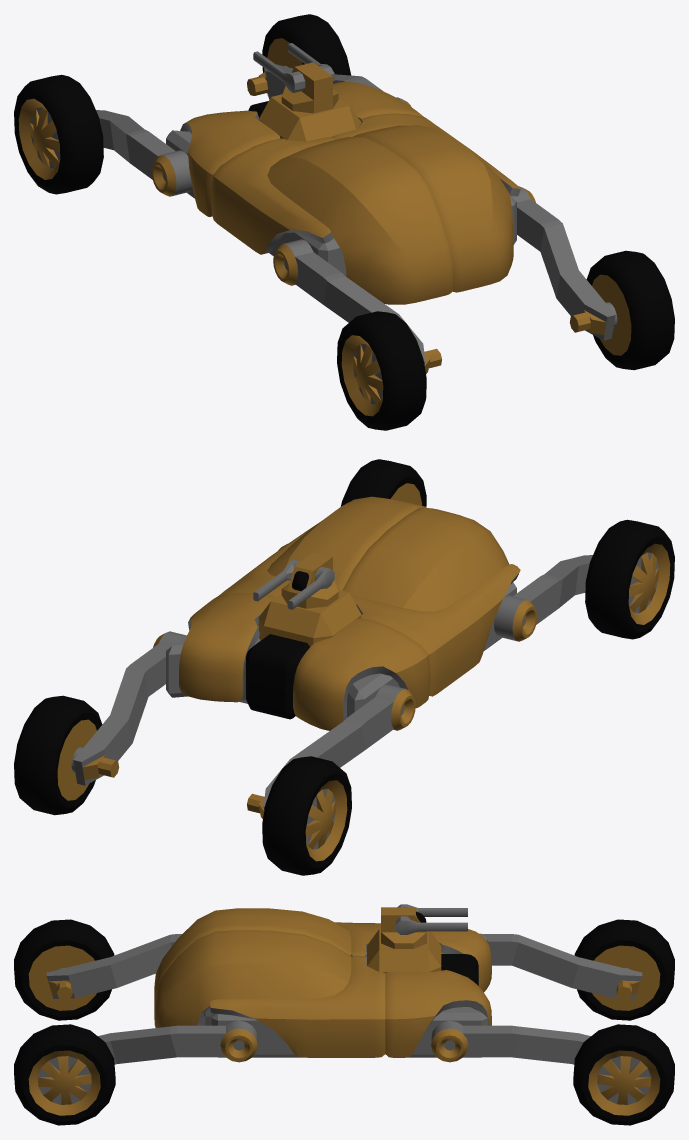
Rendered from PlayerVehicle.fbx.
The picture shows the model from 3 angles, top to bottom: view 1: azimuth 30°, elevation 25°; view 2: azimuth 150°, elevation 25°; view 3: azimuth 270°, elevation 25°; orthographic projection. The views are drawn at different scales.
Parts seen in each view (by area): view 1: Back Panel, Vehicle Right Side|Back Panel|Dupli|6, Vehicle Back Left Arm|Cylinder.001|Dupli|1, Cylinder.001, Side Panel, Vehicle Right Side|Cylinder.001|Dupli|1.7, Vehicle Right Side|Cylinder|Dupli|0.7, Vehicle Back Left Arm|Cylinder|Dupli|, Front Panel, Cylinder, Vehicle Right Side|Cylinder.001|Dupli|9, Turret Mount (+6 smaller); view 2: Back Panel, Front Panel, Cylinder.001, Vehicle Back Left Arm|Cylinder.001|Dupli|1, Side Panel, Vehicle Right Side|Cylinder.001|Dupli|9, Vehicle Right Side|Front Panel|Dupli|4, Vehicle Right Side|Cylinder|Dupli|8, Vehicle Right Side|Back Panel|Dupli|6, Cylinder, Vehicle Back Left Arm|Cylinder|Dupli|, Front (+7 smaller); view 3: Vehicle Right Side|Back Panel|Dupli|6, Vehicle Right Side|Side Panel|Dupli|5, Vehicle Right Side|Cylinder.001|Dupli|1.7, Vehicle Right Side|Cylinder.001|Dupli|9, Cylinder.001, Vehicle Back Left Arm|Cylinder.001|Dupli|1, Vehicle Right Side|Front Panel|Dupli|4, Vehicle Right Side|Cylinder|Dupli|0.7, Vehicle Right Side|Cylinder|Dupli|8, Cylinder, Back Panel, Vehicle Back Left Arm|Cylinder|Dupli| (+8 smaller).
Part boxes in pixels (box(x1,y1,x2,y2)): Back Panel: box(267, 136, 452, 304); Vehicle Right Side|Back Panel|Dupli|6: box(353, 125, 513, 292); Vehicle Back Left Arm|Cylinder.001|Dupli|1: box(337, 311, 426, 430); Cylinder.001: box(14, 74, 103, 194); Side Panel: box(211, 137, 335, 254); Vehicle Right Side|Cylinder.001|Dupli|1.7: box(586, 250, 674, 370); Vehicle Right Side|Cylinder|Dupli|0.7: box(510, 186, 615, 340); Vehicle Back Left Arm|Cylinder|Dupli|: box(273, 239, 441, 373); Front Panel: box(180, 110, 280, 216); Cylinder: box(96, 110, 192, 196); Vehicle Right Side|Cylinder.001|Dupli|9: box(262, 14, 351, 75); Turret Mount: box(258, 94, 361, 141); Back Panel: box(342, 507, 513, 611); Front Panel: box(293, 618, 430, 730); Cylinder.001: box(262, 756, 351, 875); Vehicle Back Left Arm|Cylinder.001|Dupli|1: box(585, 519, 674, 639); Side Panel: box(351, 564, 520, 696); Vehicle Right Side|Cylinder.001|Dupli|9: box(14, 695, 102, 815); Vehicle Right Side|Front Panel|Dupli|4: box(179, 593, 275, 702); Vehicle Right Side|Cylinder|Dupli|8: box(73, 631, 185, 785); Vehicle Right Side|Back Panel|Dupli|6: box(267, 496, 426, 590); Cylinder: box(247, 684, 415, 818); Vehicle Back Left Arm|Cylinder|Dupli|: box(494, 555, 592, 641); Front: box(246, 634, 309, 719); Vehicle Right Side|Back Panel|Dupli|6: box(154, 930, 351, 1027); Vehicle Right Side|Side Panel|Dupli|5: box(210, 955, 385, 1057); Vehicle Right Side|Cylinder.001|Dupli|1.7: box(14, 1024, 115, 1125); Vehicle Right Side|Cylinder.001|Dupli|9: box(573, 1024, 674, 1125); Cylinder.001: box(574, 919, 674, 1020); Vehicle Back Left Arm|Cylinder.001|Dupli|1: box(14, 919, 114, 1020); Vehicle Right Side|Front Panel|Dupli|4: box(385, 970, 491, 1057); Vehicle Right Side|Cylinder|Dupli|0.7: box(98, 1020, 257, 1064); Vehicle Right Side|Cylinder|Dupli|8: box(431, 1020, 590, 1064); Cylinder: box(482, 934, 642, 1000); Back Panel: box(154, 908, 351, 1001); Vehicle Back Left Arm|Cylinder|Dupli|: box(46, 934, 181, 1000).
Size of the model in its own units: 1164 by 699 by 2663.
